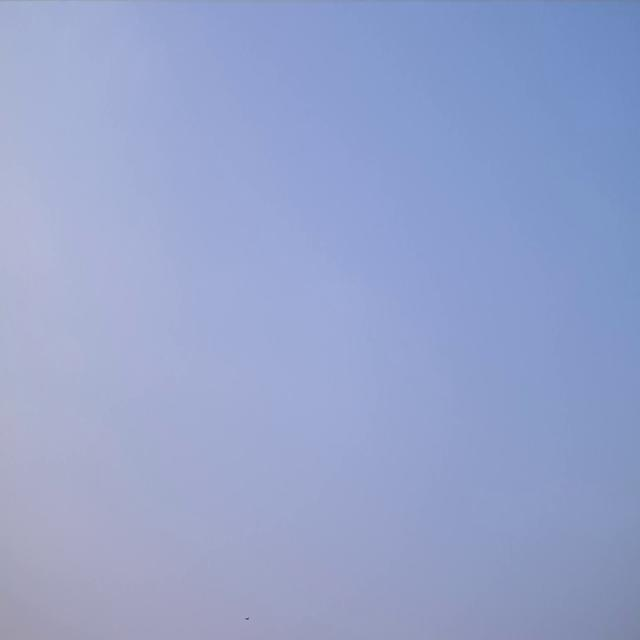UAV: (244, 616, 250, 620)
